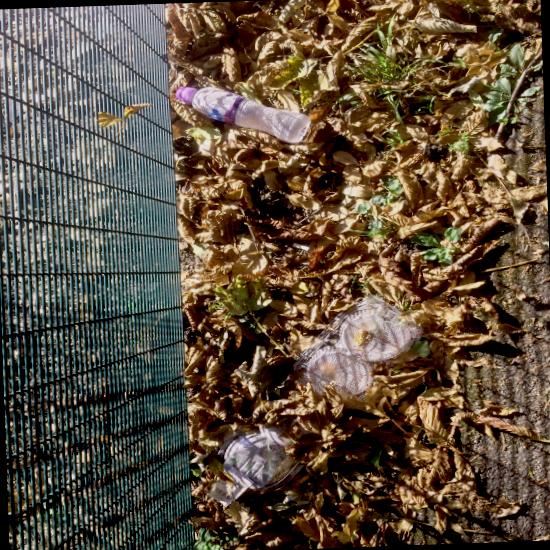Cigarette: (291, 243, 310, 251)
Clear plastic bottle: (176, 86, 311, 143)
Disposable food container: (292, 295, 423, 400), (219, 416, 305, 495)
Normal paper: (209, 467, 254, 507)
Plastic bottle cap: (176, 86, 195, 104)
